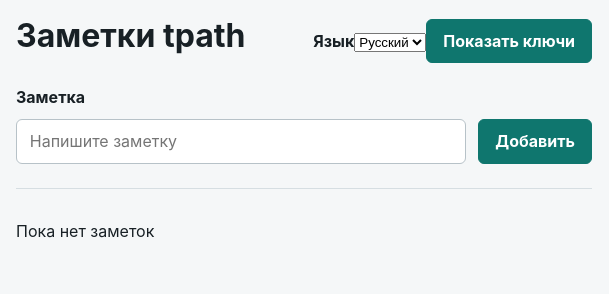
Test: react-simple example › renders another nested translation tree with the same inferred type
Expected: the heading "Заметки tpath" is shown, [16,16,246,55]
Expected: the text "Пока нет заметок" is shown, [16,221,154,241]
Type "Проверить вложенные переводы" into the field labelled "Заметка". click: (241, 141)
box: [16,119,466,164]
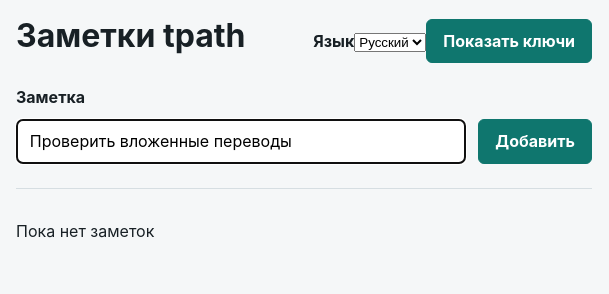
Click the button "Добавить". click: (535, 141)
box: [478,119,592,164]
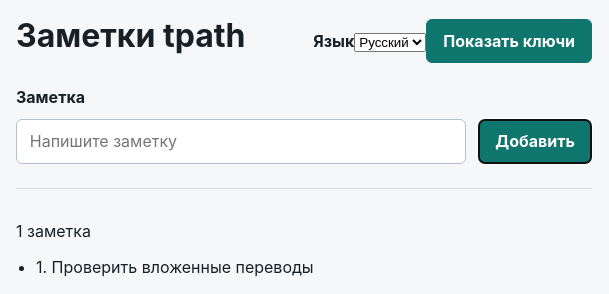
Expected: the list item "1. Проверить вложенные переводы" is shown, [36,257,314,277]
Expected: the text "1 заметка" is shown, [16,221,91,241]
